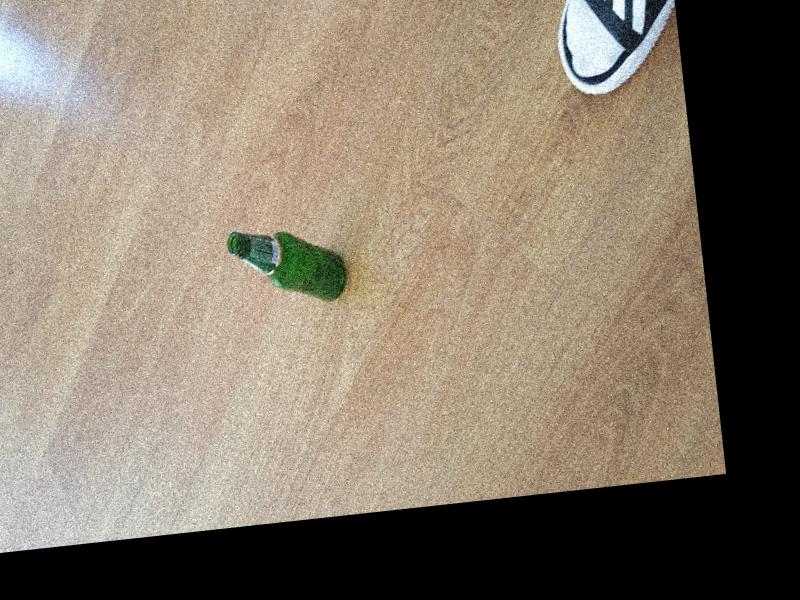Beer: (228, 220, 348, 308)
